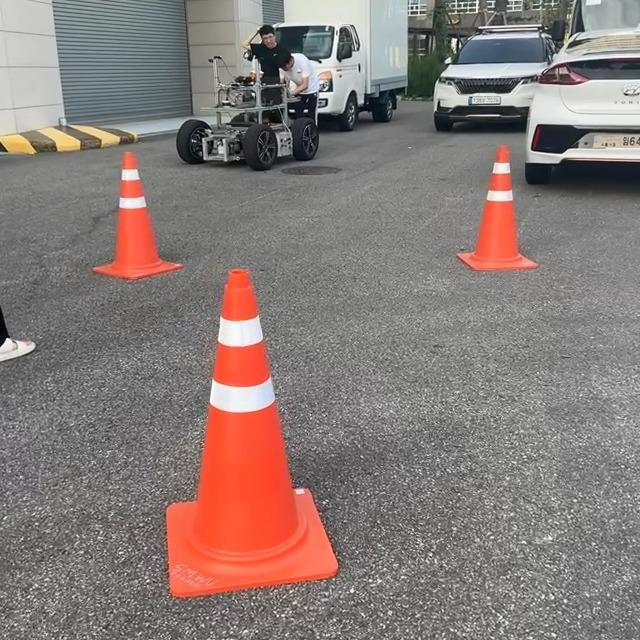fallen_object: (117, 262, 387, 609), (435, 122, 602, 335), (93, 137, 203, 300)
